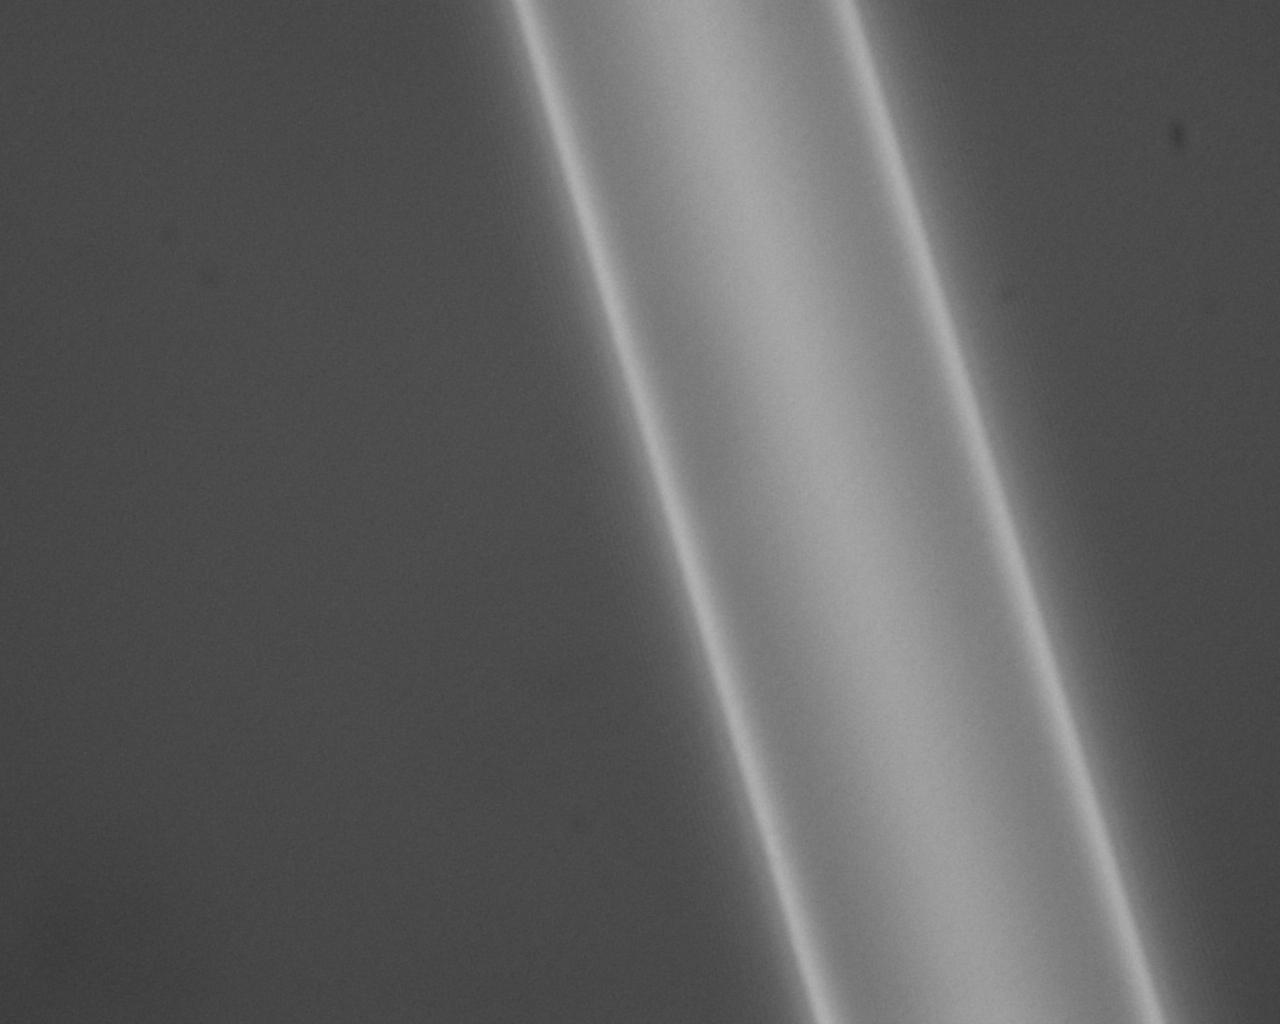fiber: (517, 0, 711, 469)
